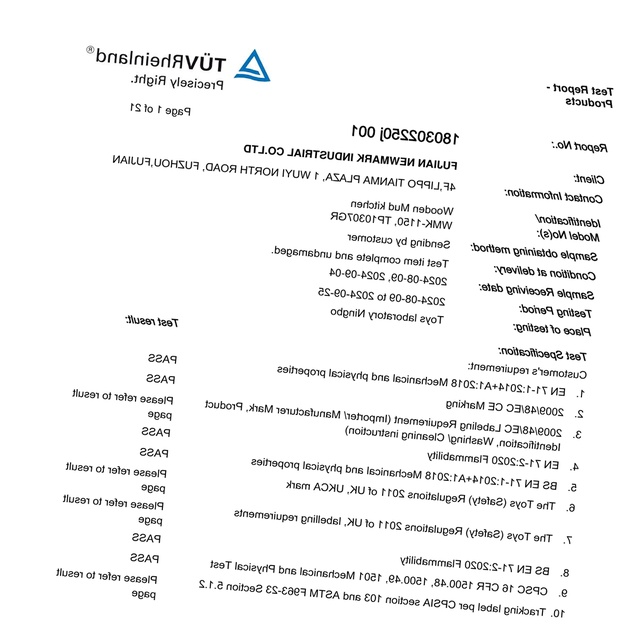tuv_rheinland: (76, 48, 276, 90)
